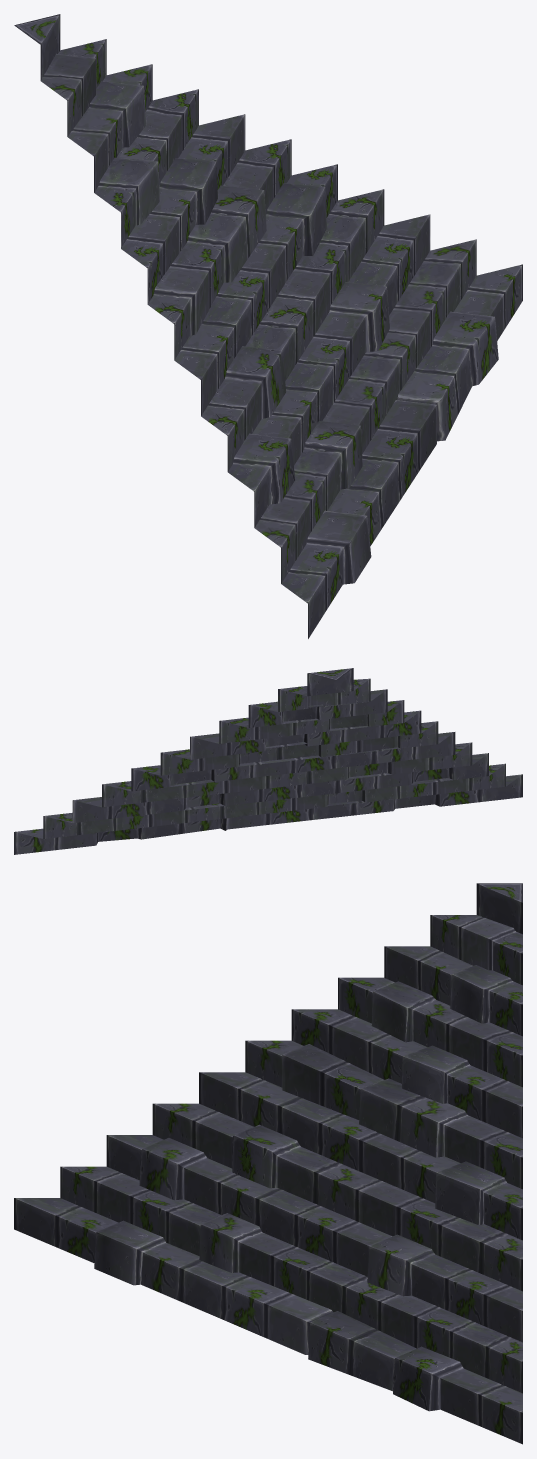
File: MOD_Stairs_01_E_angle_convex_2.fbx
3 views of the same model, one above another, from view 1: azimuth 30°, elevation 25°; view 2: azimuth 150°, elevation 25°; view 3: azimuth 270°, elevation 25° (orthographic). The views are drawn at different scales.
Parts seen in each view (by area): view 1: MOD_Stairs_01_E_angle_convex_2; view 2: MOD_Stairs_01_E_angle_convex_2; view 3: MOD_Stairs_01_E_angle_convex_2.
Part boxes in pixels (x1,y1,x2,y2): MOD_Stairs_01_E_angle_convex_2: [14, 14, 522, 638]; MOD_Stairs_01_E_angle_convex_2: [14, 668, 522, 854]; MOD_Stairs_01_E_angle_convex_2: [14, 883, 522, 1444].
Size of the model in its own units: 400 by 300 by 400.
